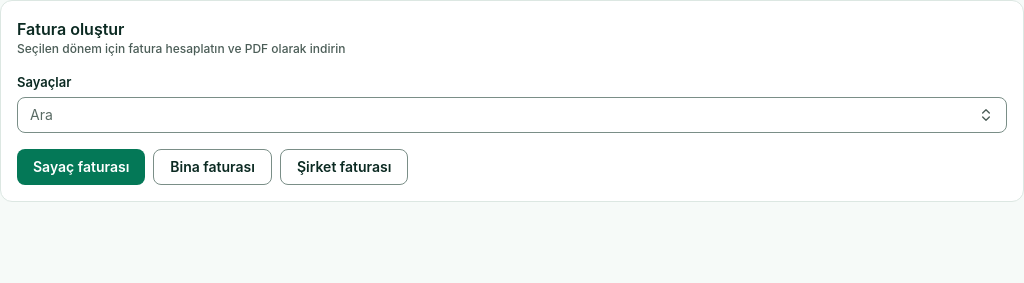
Test: GenerateCardView › refuses any generation without a month
The width and height of the screenshot is (1024, 283).
Click the button "Şirket faturası".
click(344, 167)  # box [280, 149, 408, 185]
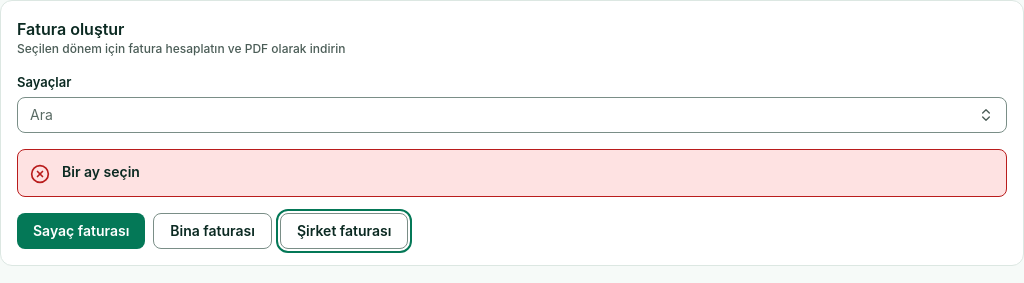
Result: the message reads "Bir ay seçin" at [62, 163, 140, 180]
